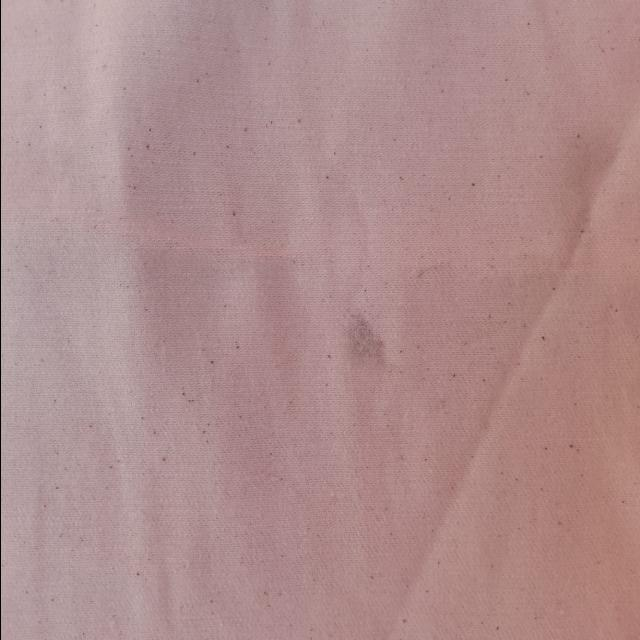taaaches: (328, 306, 401, 394)
